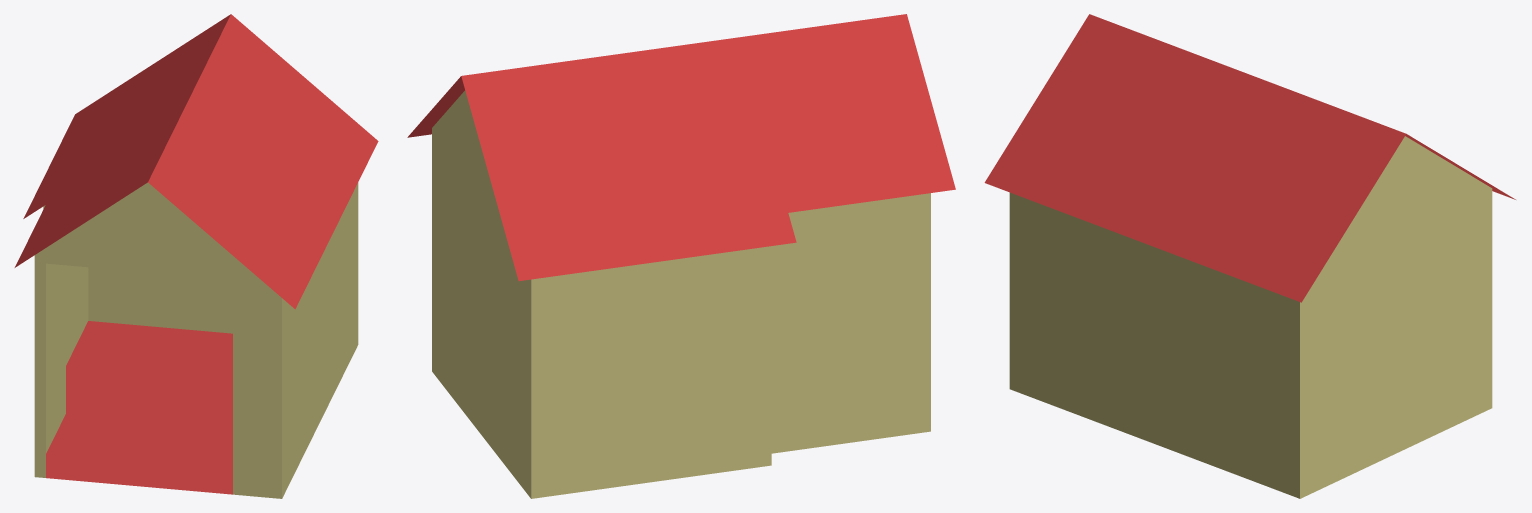
3 renders of one model, left to right at view 1: azimuth 30°, elevation 25°; view 2: azimuth 150°, elevation 25°; view 3: azimuth 270°, elevation 25°, orthographic. The views are drawn at different scales.
Bounding box in the file's own units: 21.34 × 22.43 × 15.14.
